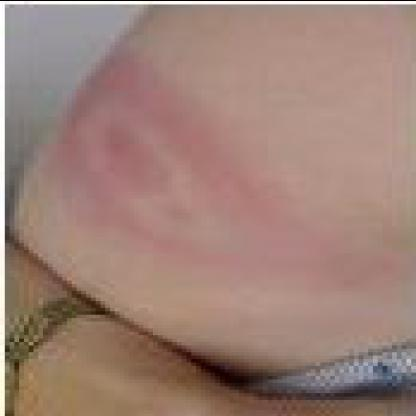Tick: (39, 51, 382, 321)
